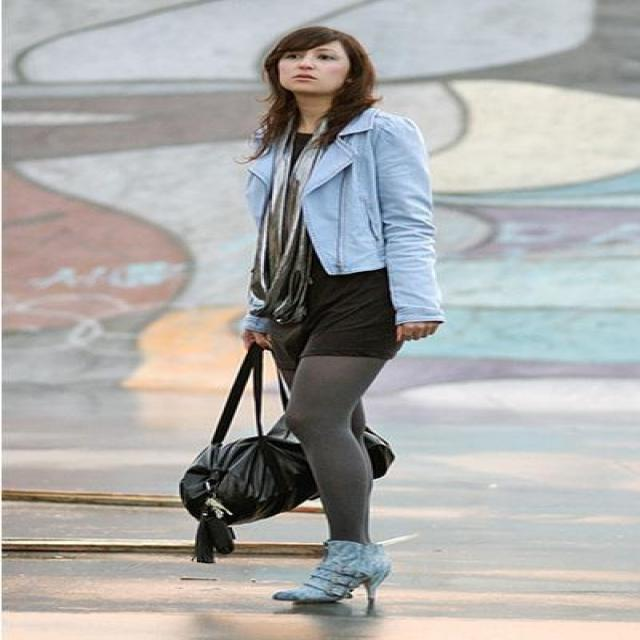bag: (179, 341, 394, 529)
jacket: (232, 106, 454, 319)
shirt: (253, 166, 323, 294)
shoe: (272, 536, 386, 616)
skirt: (249, 269, 402, 370)
